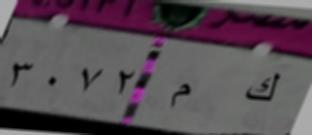0: (42, 69, 61, 93)
2: (114, 68, 137, 98)
3: (9, 57, 35, 93)
7: (77, 62, 104, 97)
kaaf: (241, 68, 281, 112)
meem: (164, 82, 194, 115)
